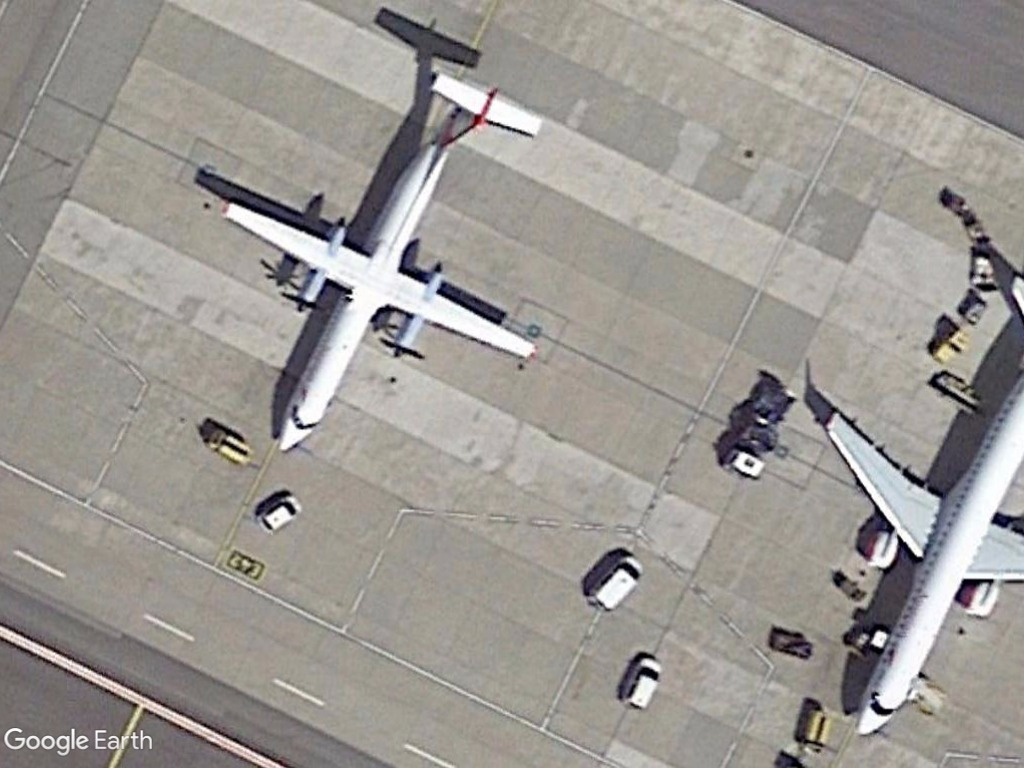car: (255, 494, 306, 538)
propeller: (215, 68, 542, 457)
van: (583, 551, 645, 616), (619, 653, 666, 712)
